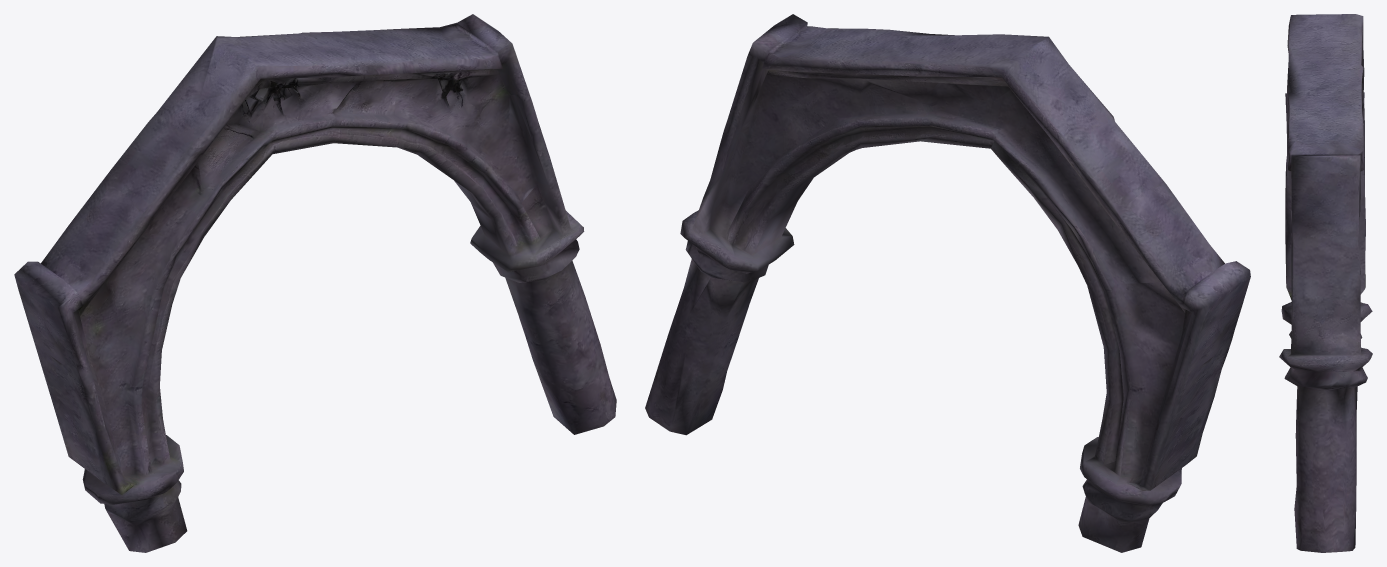
File: level1-gothic-arch.glb
The picture shows the model from 3 angles, left to right: view 1: azimuth 30°, elevation 25°; view 2: azimuth 150°, elevation 25°; view 3: azimuth 270°, elevation 25°; orthographic projection. The views are drawn at different scales.
Visible parts, largest first — view 1: tripo_node_d39dc25b-c637-4c1f-aa3b-07df010a8d3c; view 2: tripo_node_d39dc25b-c637-4c1f-aa3b-07df010a8d3c; view 3: tripo_node_d39dc25b-c637-4c1f-aa3b-07df010a8d3c.
Part boxes in pixels (x1,y1,x2,y2): tripo_node_d39dc25b-c637-4c1f-aa3b-07df010a8d3c: (14,14,616,552); tripo_node_d39dc25b-c637-4c1f-aa3b-07df010a8d3c: (645,14,1250,552); tripo_node_d39dc25b-c637-4c1f-aa3b-07df010a8d3c: (1279,14,1372,552).
Bounding box in the file's own units: 5.34 × 4.14 × 0.8687.
1 material, 1 textured.
